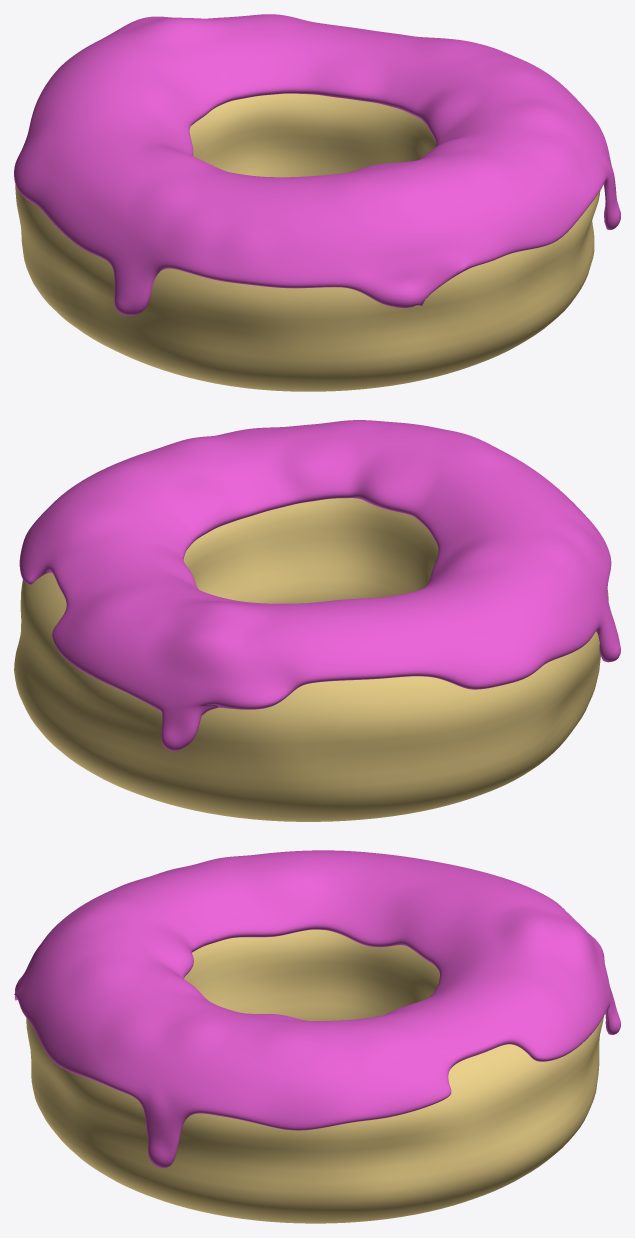
File: donut2butgood.fbx
3 views of the same model, one above another, from view 1: azimuth 30°, elevation 25°; view 2: azimuth 150°, elevation 25°; view 3: azimuth 270°, elevation 25° (orthographic). The views are drawn at different scales.
Visible parts, largest first — view 1: Icing, Donut; view 2: Icing, Donut; view 3: Icing, Donut.
Part boxes in pixels (x1=…): Icing: x1=14, y1=14, x2=620, y2=315; Donut: x1=15, y1=93, x2=600, y2=391; Icing: x1=19, y1=420, x2=620, y2=751; Donut: x1=14, y1=498, x2=608, y2=821; Icing: x1=14, y1=850, x2=620, y2=1168; Donut: x1=26, y1=929, x2=603, y2=1223.
Size of the model in its own units: 14.27 by 5.44 by 15.02.
